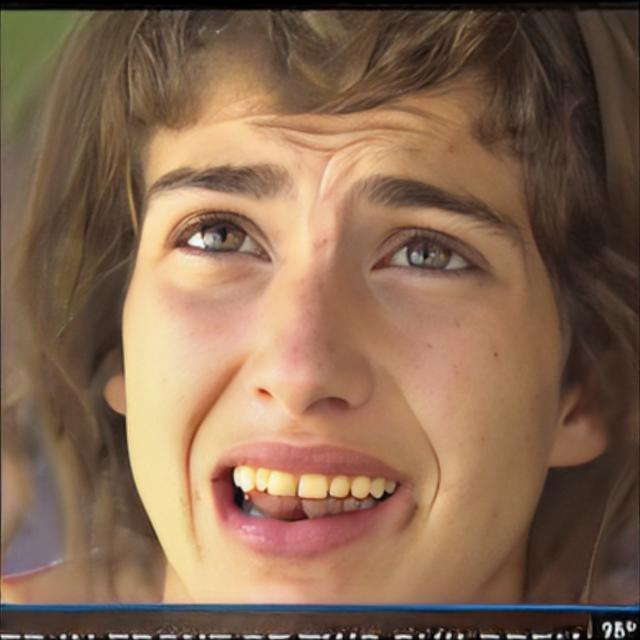fear: (116, 26, 574, 606)
